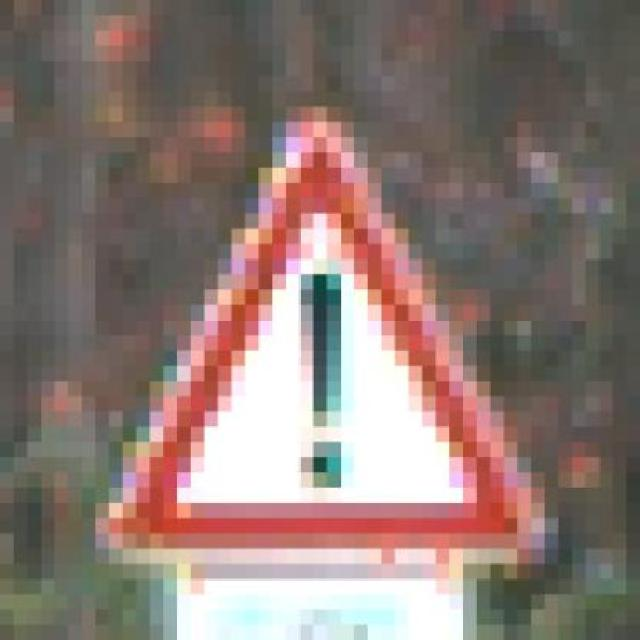Attention Please-: (104, 92, 567, 579)
